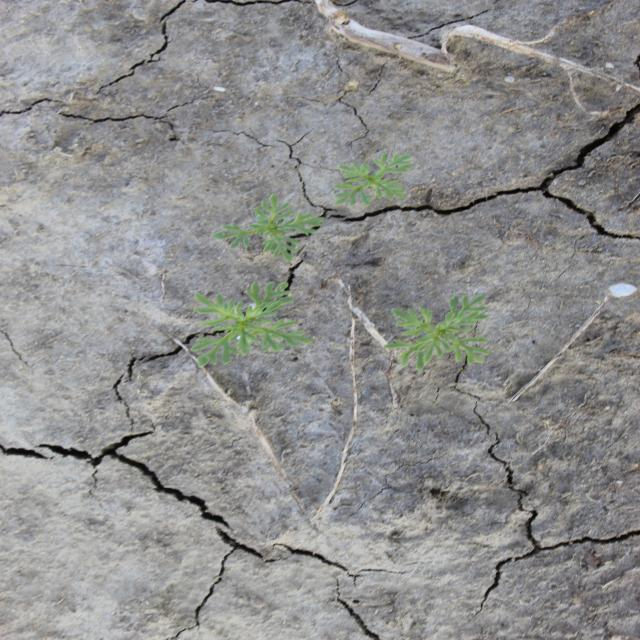Ragweed: (188, 279, 314, 369), (381, 294, 492, 372), (212, 192, 326, 264), (332, 151, 415, 208)
